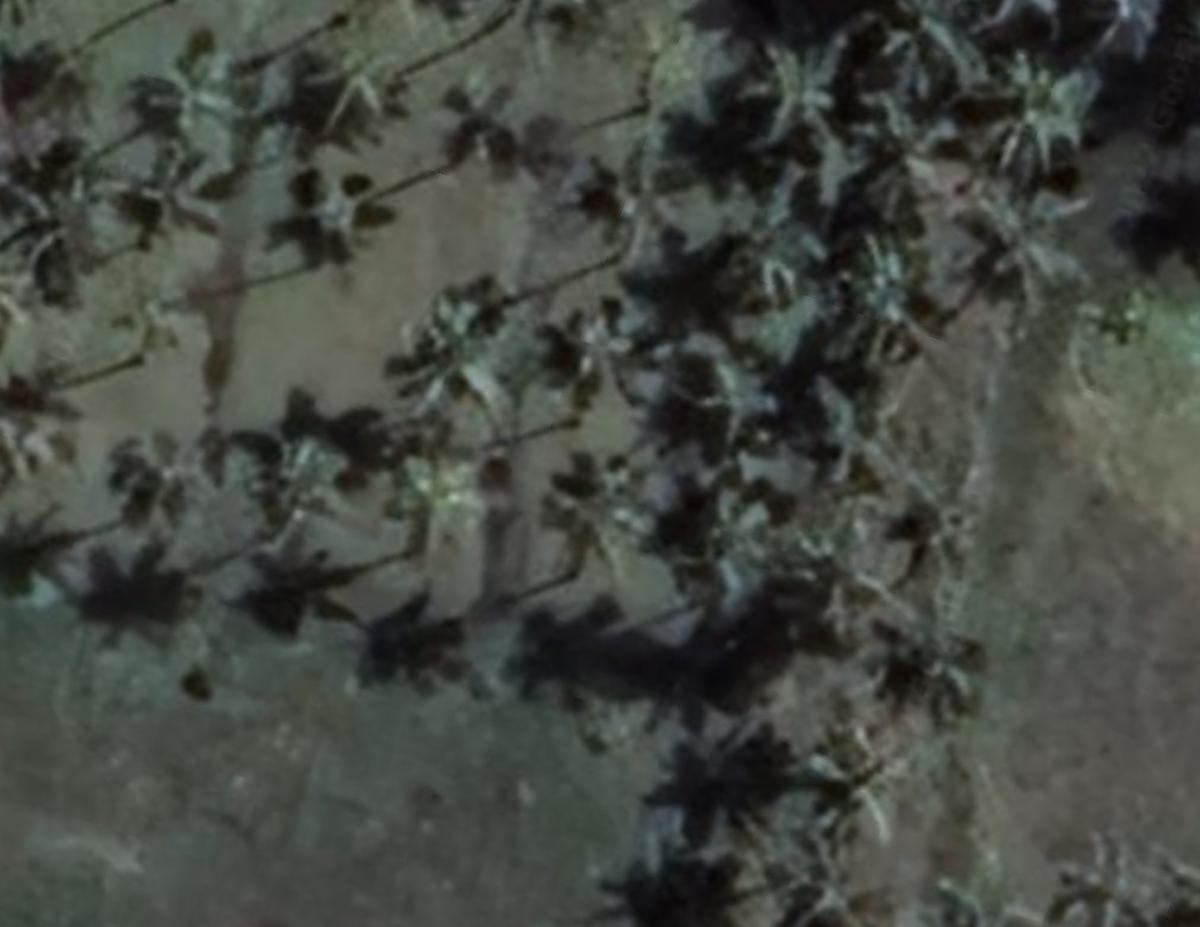coconut: (100, 136, 250, 261), (541, 448, 659, 588), (392, 286, 503, 424), (832, 232, 948, 362), (842, 93, 963, 217), (976, 170, 1090, 296), (683, 480, 788, 616), (816, 379, 935, 493), (238, 424, 353, 541), (582, 155, 695, 274), (138, 46, 261, 148), (978, 64, 1095, 169), (807, 734, 922, 840), (390, 447, 499, 553), (740, 40, 855, 138), (670, 341, 777, 443), (108, 441, 214, 543), (725, 212, 835, 310), (305, 39, 439, 118), (792, 516, 883, 632), (563, 313, 663, 416), (294, 178, 398, 264)
